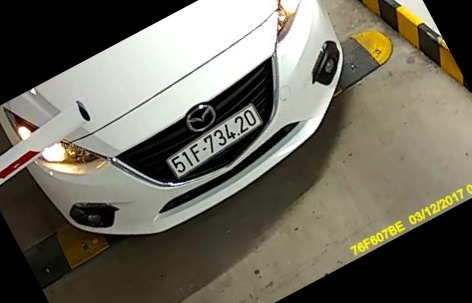plate: (166, 105, 265, 180)
